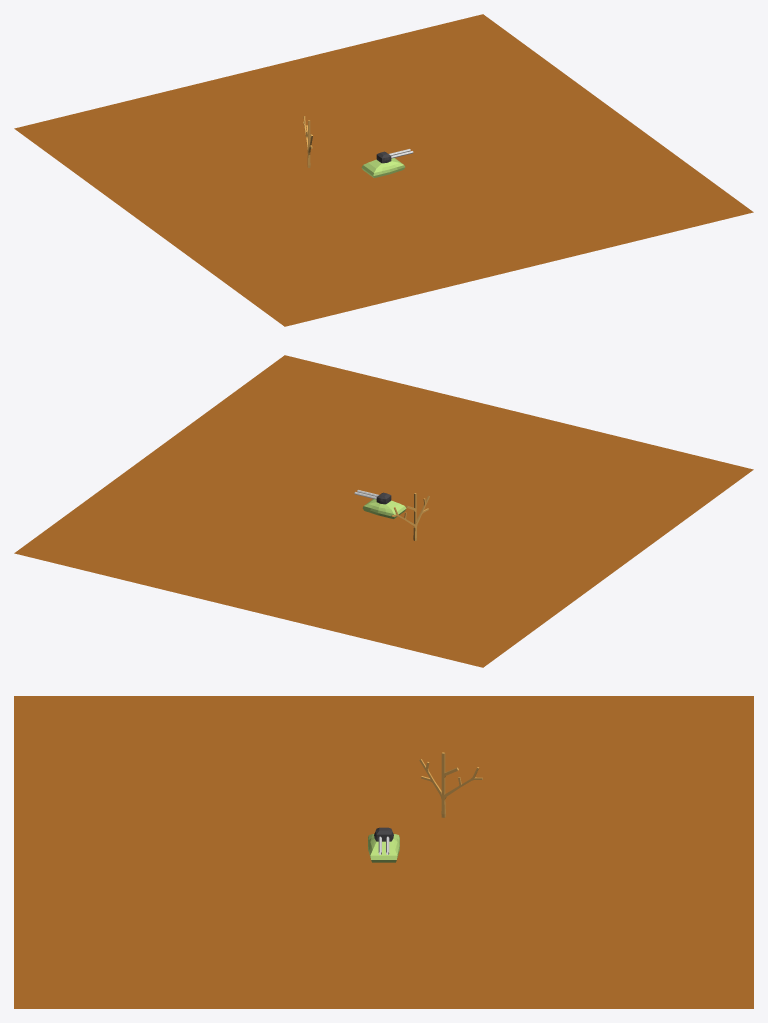
File: Tank.gltf
The picture shows the model from 3 angles, top to bottom: view 1: azimuth 30°, elevation 25°; view 2: azimuth 150°, elevation 25°; view 3: azimuth 270°, elevation 25°; orthographic projection. The views are drawn at different scales.
Parts seen in each view (by area): view 1: Grid, Tank; view 2: Grid, Tank; view 3: Grid, Tank, Tree.
Boxes of the visible parts, box(x1,y1,x2,y2) form: Grid: box(14, 14, 753, 326); Tank: box(361, 149, 413, 177); Grid: box(14, 355, 753, 667); Tank: box(354, 490, 406, 518); Grid: box(14, 696, 753, 1008); Tank: box(368, 827, 399, 862); Tree: box(419, 752, 482, 817).
Size of the model in its own units: 100 by 9.55 by 100.
